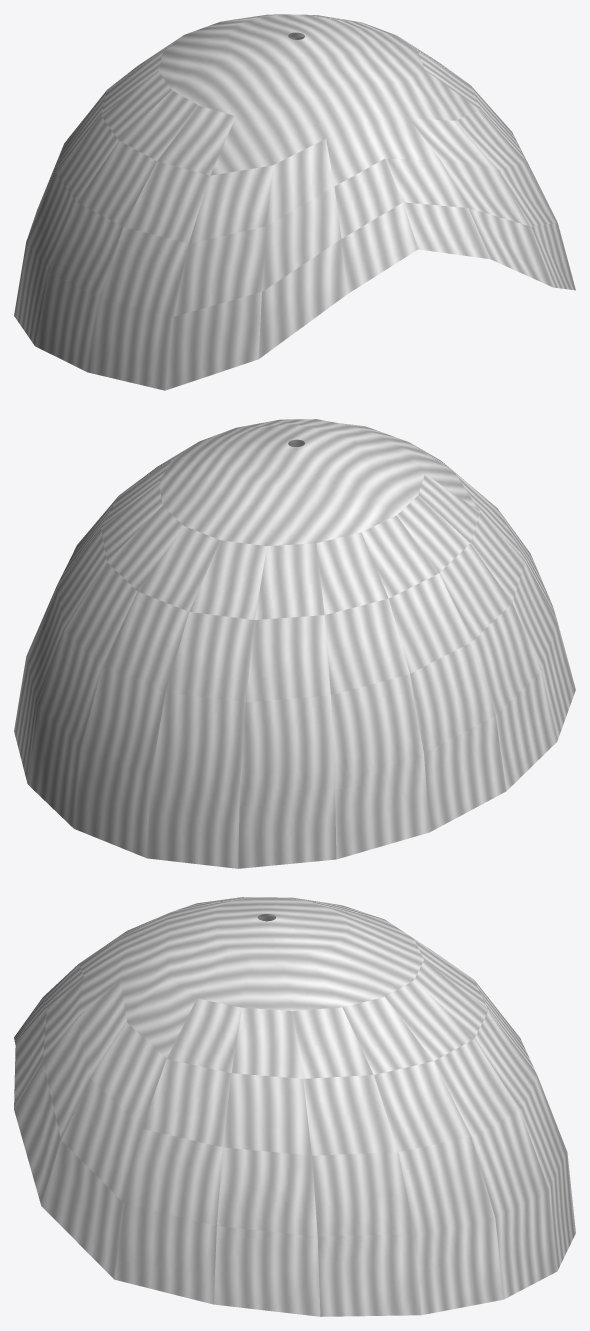
File: hair_buzz.glb
The picture shows the model from 3 angles, top to bottom: view 1: azimuth 30°, elevation 25°; view 2: azimuth 150°, elevation 25°; view 3: azimuth 270°, elevation 25°; orthographic projection. The views are drawn at different scales.
Parts seen in each view (by area): view 1: hair_buzz; view 2: hair_buzz; view 3: hair_buzz.
Boxes of the visible parts, <box> form: hair_buzz: <box>14,14,575,390</box>; hair_buzz: <box>14,419,575,868</box>; hair_buzz: <box>14,897,575,1316</box>.
Size of the model in its own units: 0.2492 by 0.1543 by 0.2491.
Materials: 1 (1 with a texture image).
